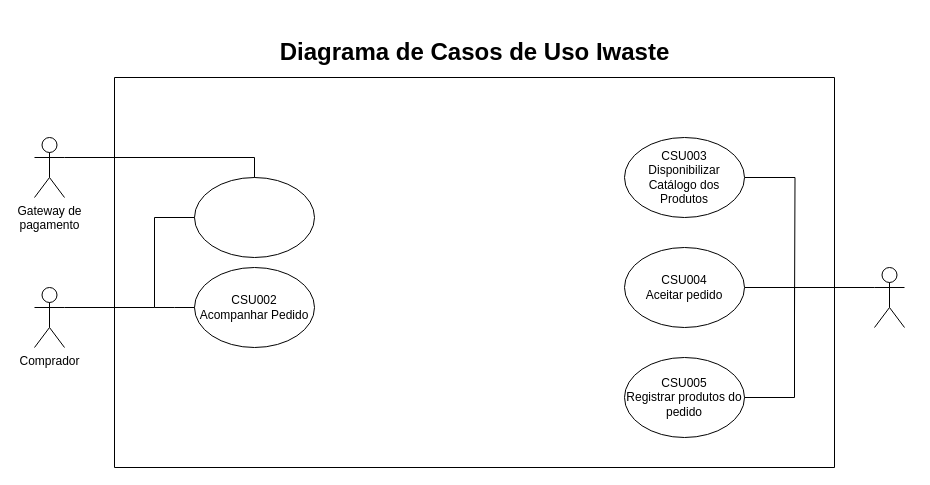
Image size: 930x485. Some labels were removed from this diagram. Each missing label, with the box of its shape:
CSU001 Solicitar Pedido: (194, 176, 314, 258)
Mercado: (874, 266, 904, 328)
